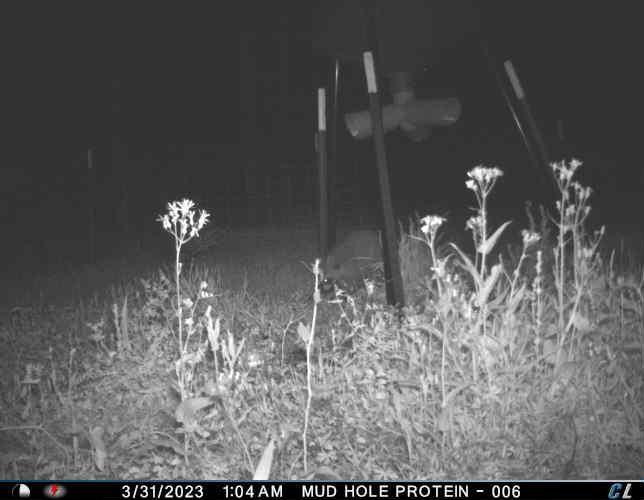Raccoon: (319, 225, 387, 302)
